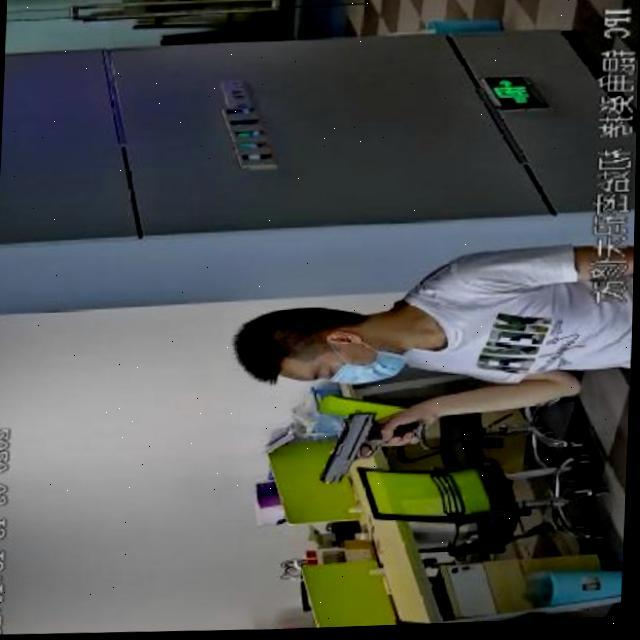gun: (310, 396, 402, 497)
